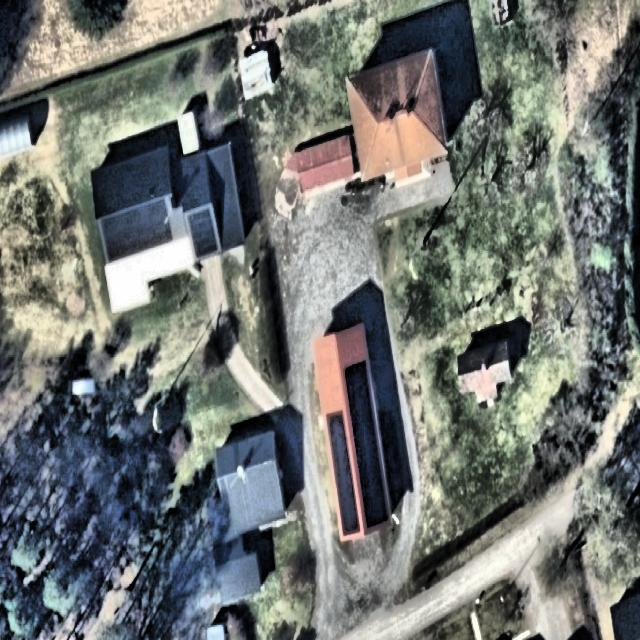roof_pv: (343, 354, 392, 532), (99, 195, 175, 265), (326, 411, 362, 541), (187, 204, 219, 260)
